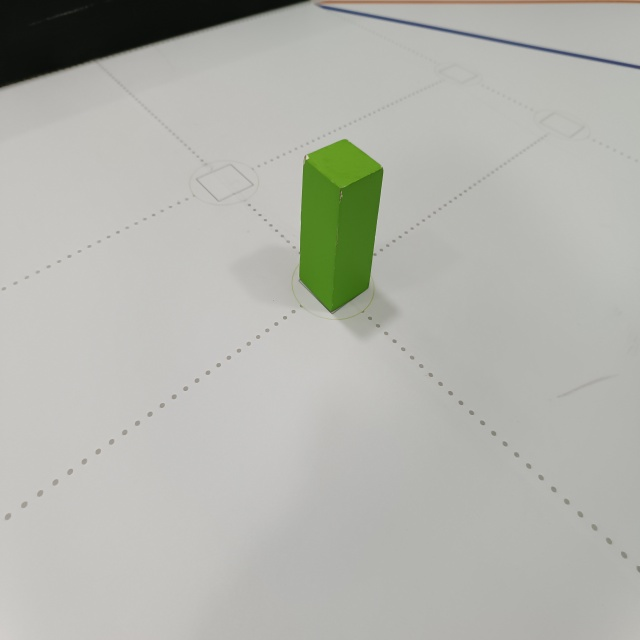blue line: (308, 3, 639, 73)
green rectangular prism: (295, 130, 386, 321)
